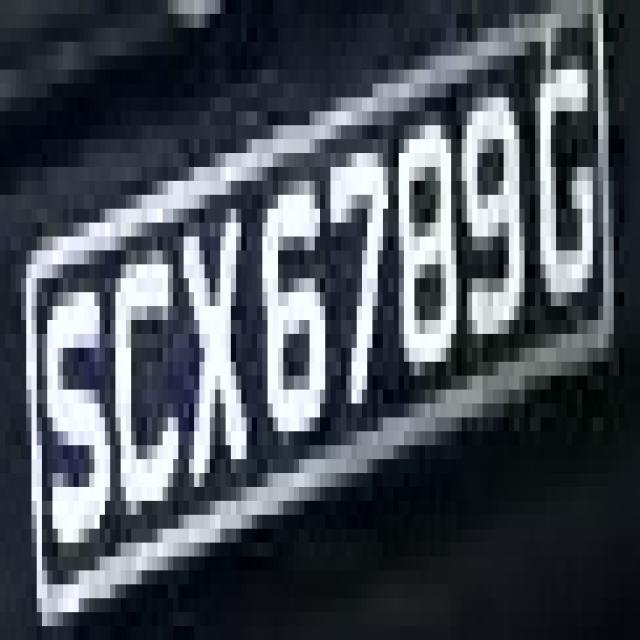6: (247, 139, 336, 487)
7: (310, 139, 394, 431)
8: (388, 98, 467, 418)
9: (451, 83, 525, 390)
C: (115, 222, 178, 528)
G: (520, 28, 604, 306)
S: (32, 251, 110, 598)
X: (178, 181, 257, 473)
